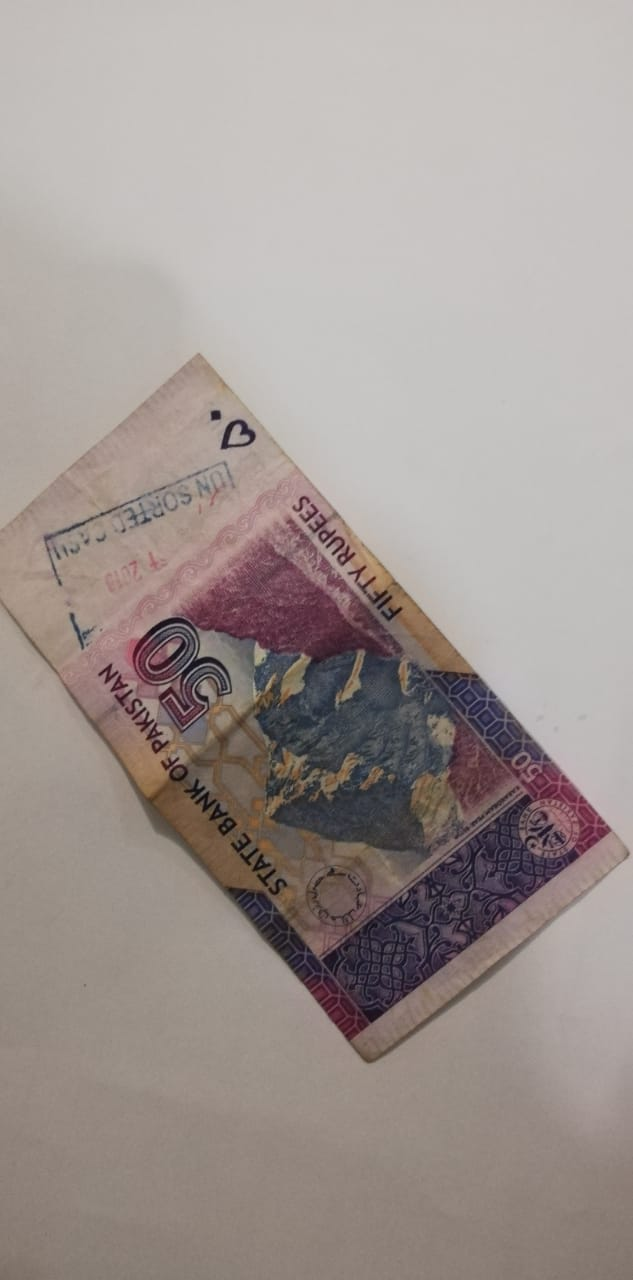50 rupee: (11, 338, 616, 1068)
